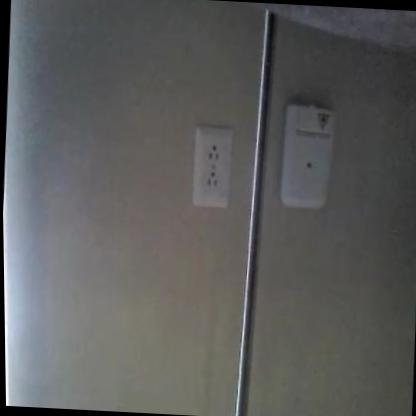OUTLET: (191, 128, 234, 209)
